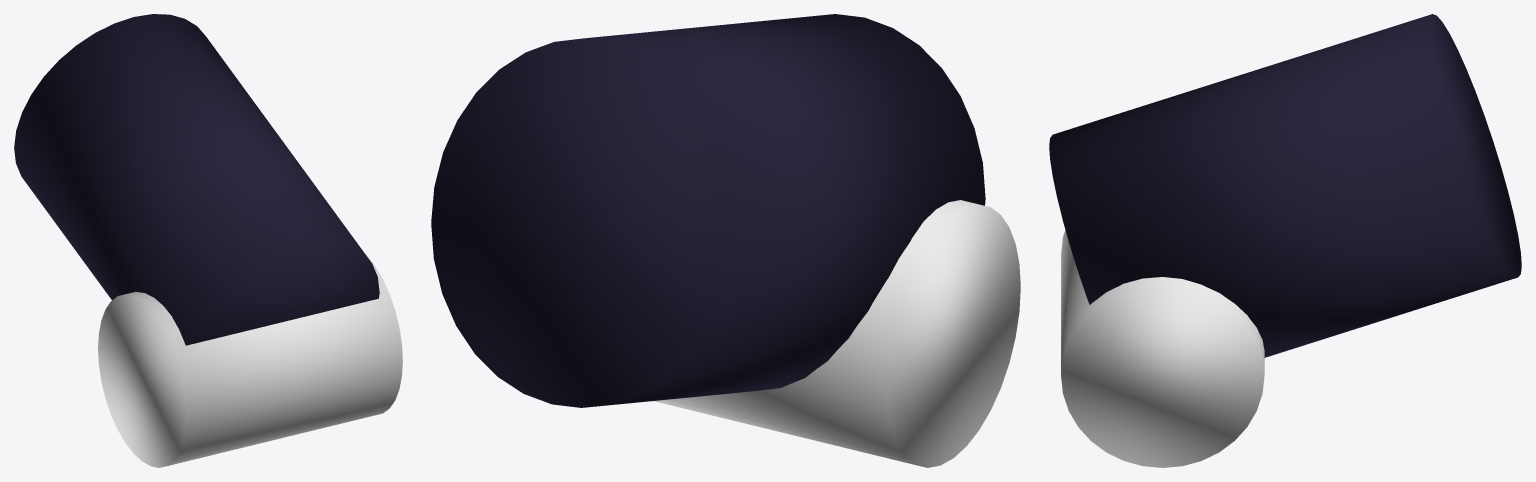
The model's file is Cannon.glb.
3 views of the same model, side by side, from view 1: azimuth 30°, elevation 25°; view 2: azimuth 150°, elevation 25°; view 3: azimuth 270°, elevation 25° (orthographic). The views are drawn at different scales.
Parts seen in each view (by area): view 1: Cylinder.001; view 2: Cylinder.001; view 3: Cylinder.001.
Boxes of the visible parts, box(x1,y1,x2,y2) form: Cylinder.001: box(14, 14, 402, 467); Cylinder.001: box(431, 14, 1020, 467); Cylinder.001: box(1049, 14, 1521, 467).
Size of the model in its own units: 2.21 by 3.26 by 3.65.
